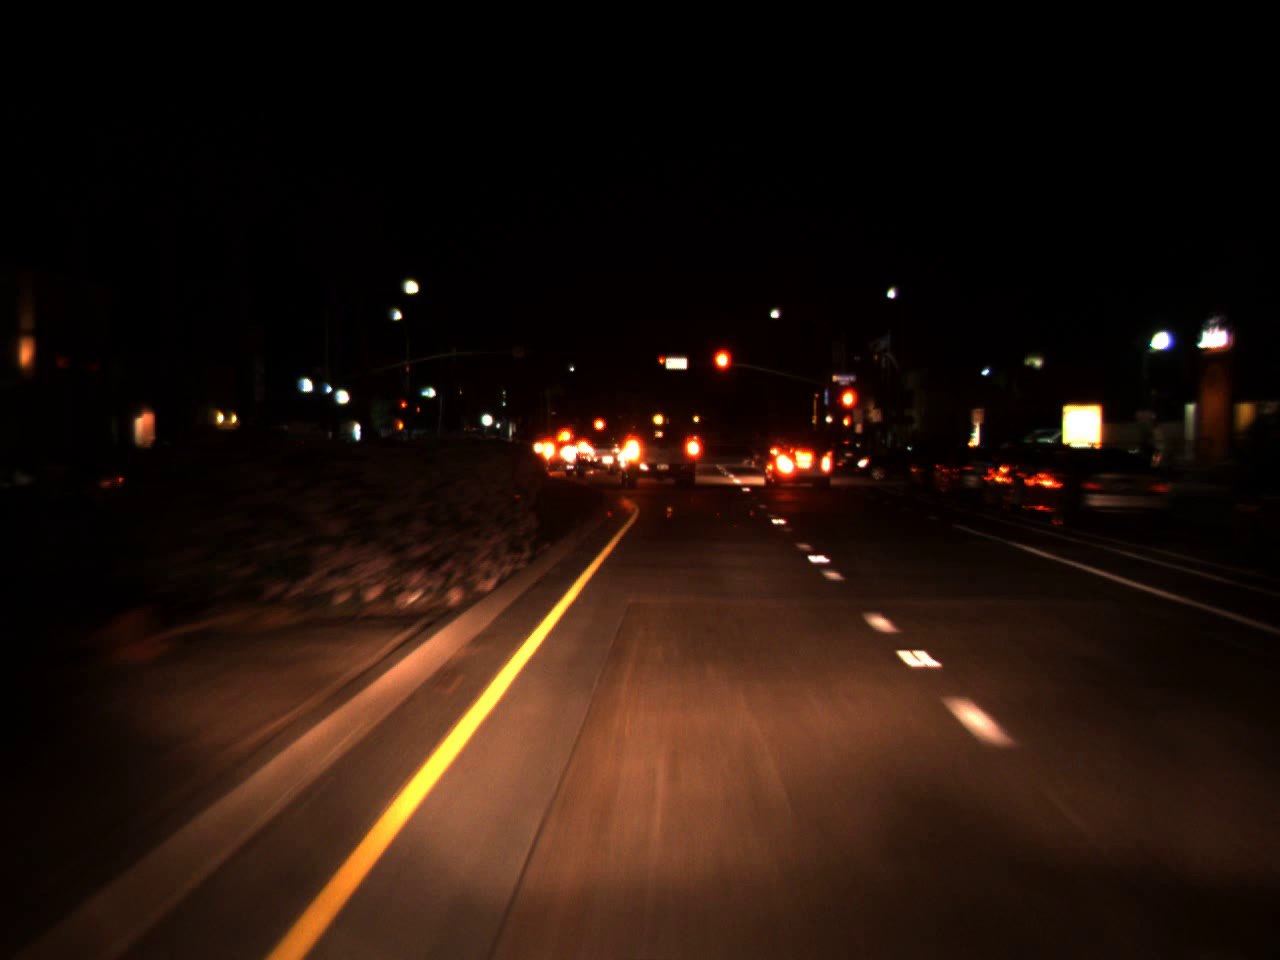stop: (711, 345, 733, 396), (837, 385, 859, 433), (657, 356, 667, 372), (401, 400, 407, 413)
